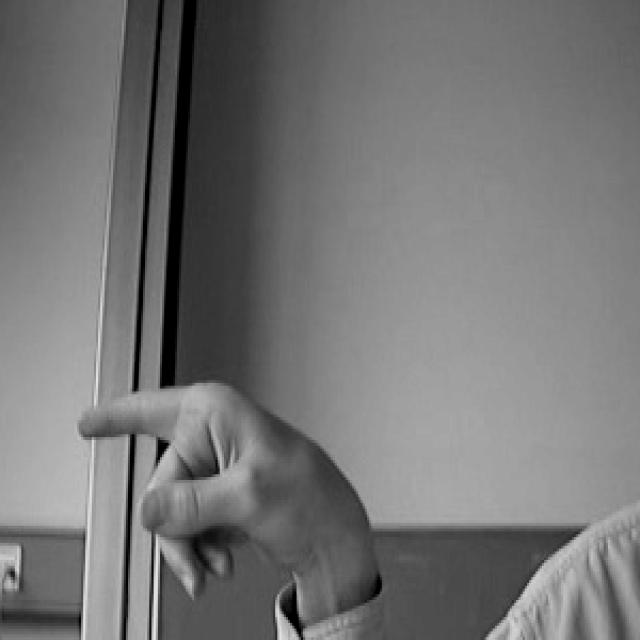P: (68, 366, 389, 610)
